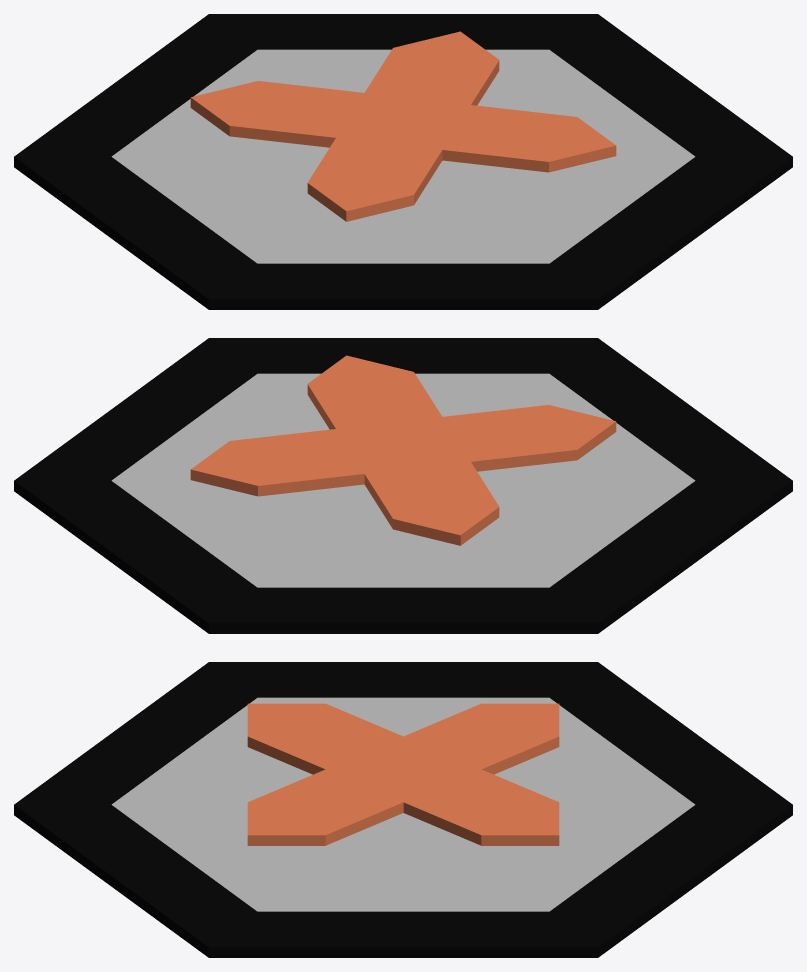
The model's file is delete_opt.fbx.
3 views of the same model, one above another, from view 1: azimuth 30°, elevation 25°; view 2: azimuth 150°, elevation 25°; view 3: azimuth 270°, elevation 25° (orthographic).
Parts seen in each view (by area): view 1: Circle; view 2: Circle; view 3: Circle.
Part boxes in pixels (x1,y1,x2,y2): Circle: [14, 14, 792, 309]; Circle: [14, 338, 792, 633]; Circle: [14, 662, 792, 957].
Bounding box in the file's own units: 173 × 13 × 200.
